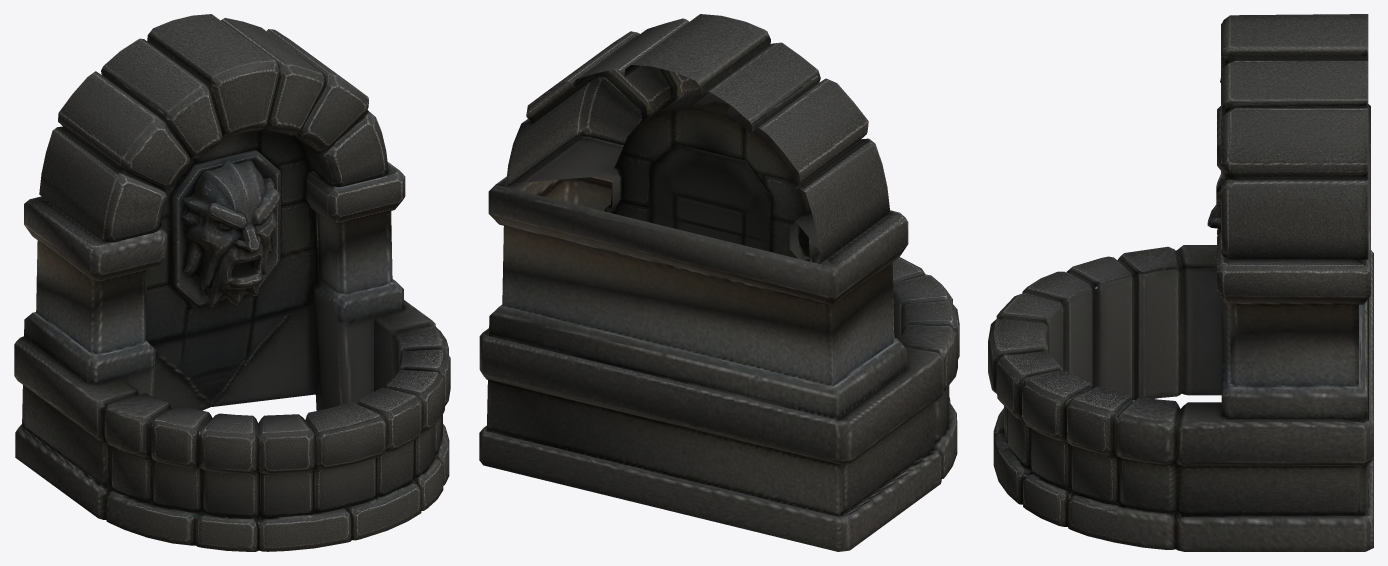
File: Fountain_Wall.fbx
3 views of the same model, side by side, from view 1: azimuth 30°, elevation 25°; view 2: azimuth 150°, elevation 25°; view 3: azimuth 270°, elevation 25° (orthographic). The views are drawn at different scales.
Visible parts, largest first — view 1: Fountain_Wall; view 2: Fountain_Wall; view 3: Fountain_Wall.
Boxes of the visible parts, <box> form: Fountain_Wall: <box>14,14,450,551</box>; Fountain_Wall: <box>479,14,959,551</box>; Fountain_Wall: <box>988,14,1373,551</box>.
Bounding box in the file's own units: 178 × 200 × 161.
Materials: 1 (1 with a texture image).
